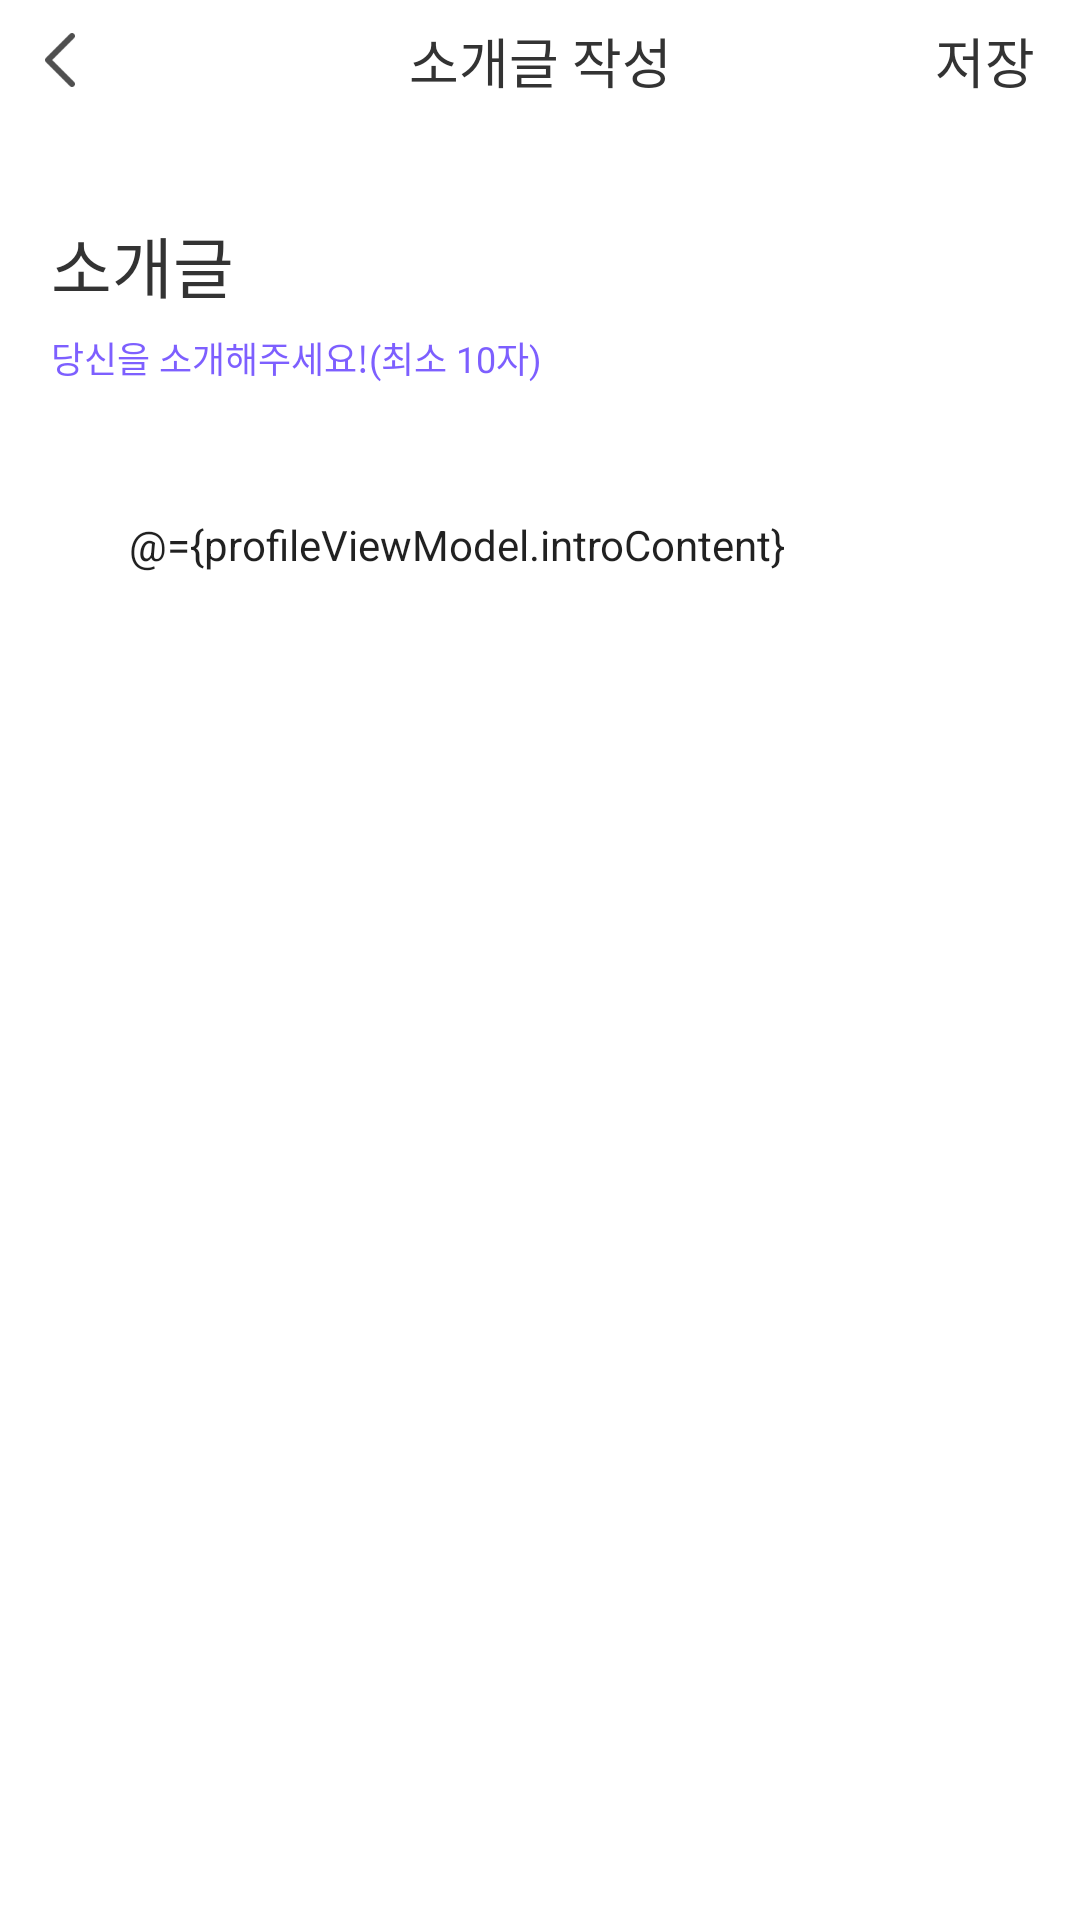

Locate icon controls on the screen. Image size 1080 x 1920, boxes as (x1, y1, x2, y2).
back: (45, 33, 75, 87)
